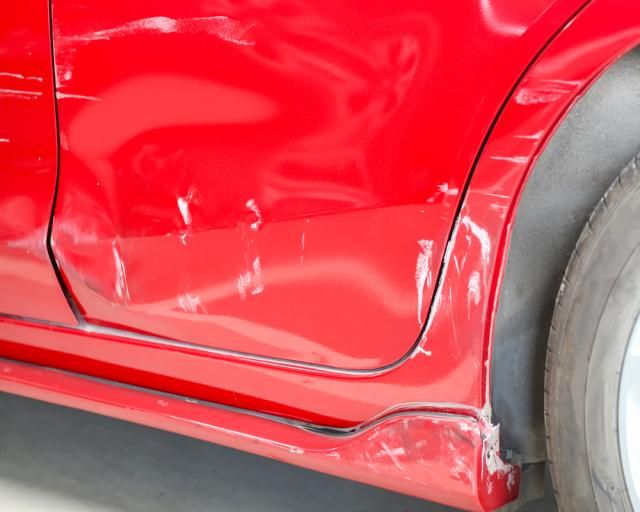scratch: (432, 72, 587, 329), (107, 196, 273, 319), (51, 11, 260, 105), (339, 419, 485, 495), (412, 175, 459, 332), (0, 72, 45, 155)
